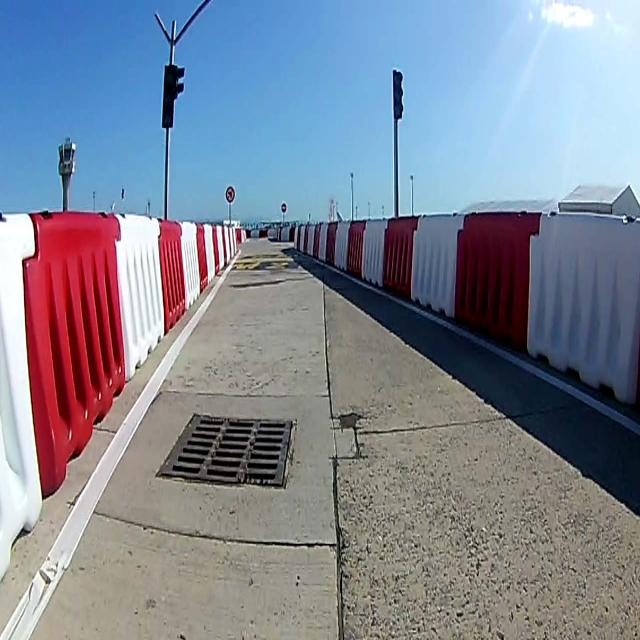soladonulmez: (226, 185, 236, 203)
